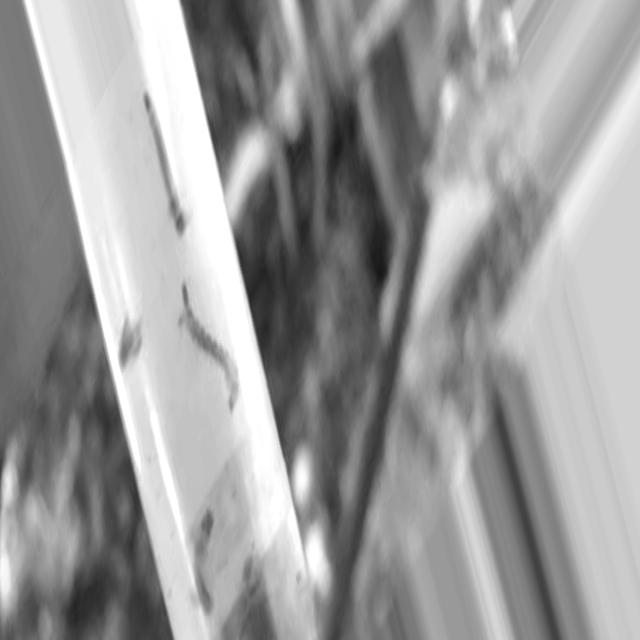larvas: (173, 277, 247, 418), (138, 88, 190, 243), (192, 512, 216, 610), (116, 315, 143, 365)
